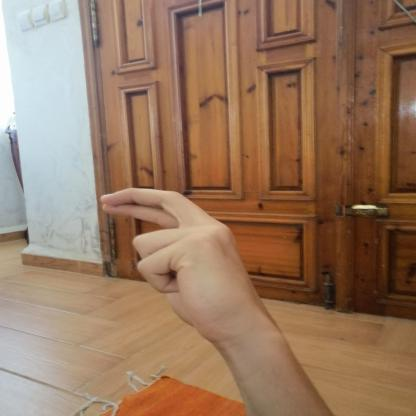ZAY: (87, 183, 287, 352)
